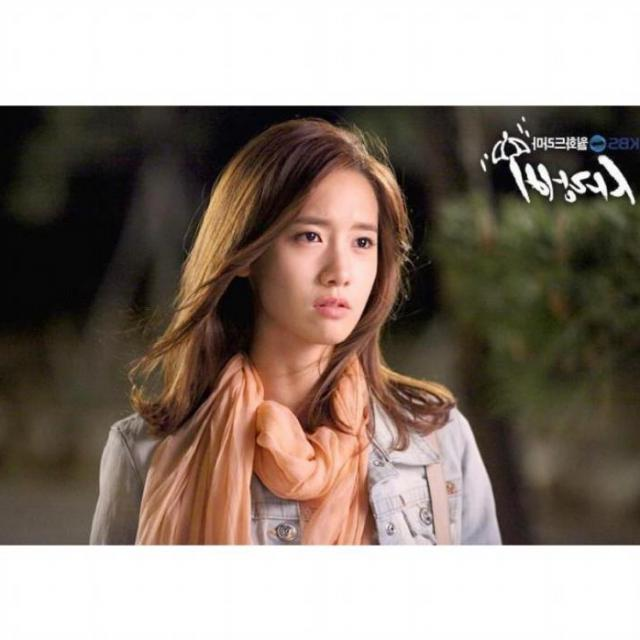live: (243, 148, 397, 348)
